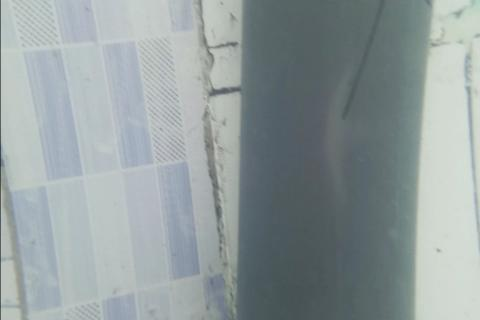keretakan: (341, 0, 383, 119)
